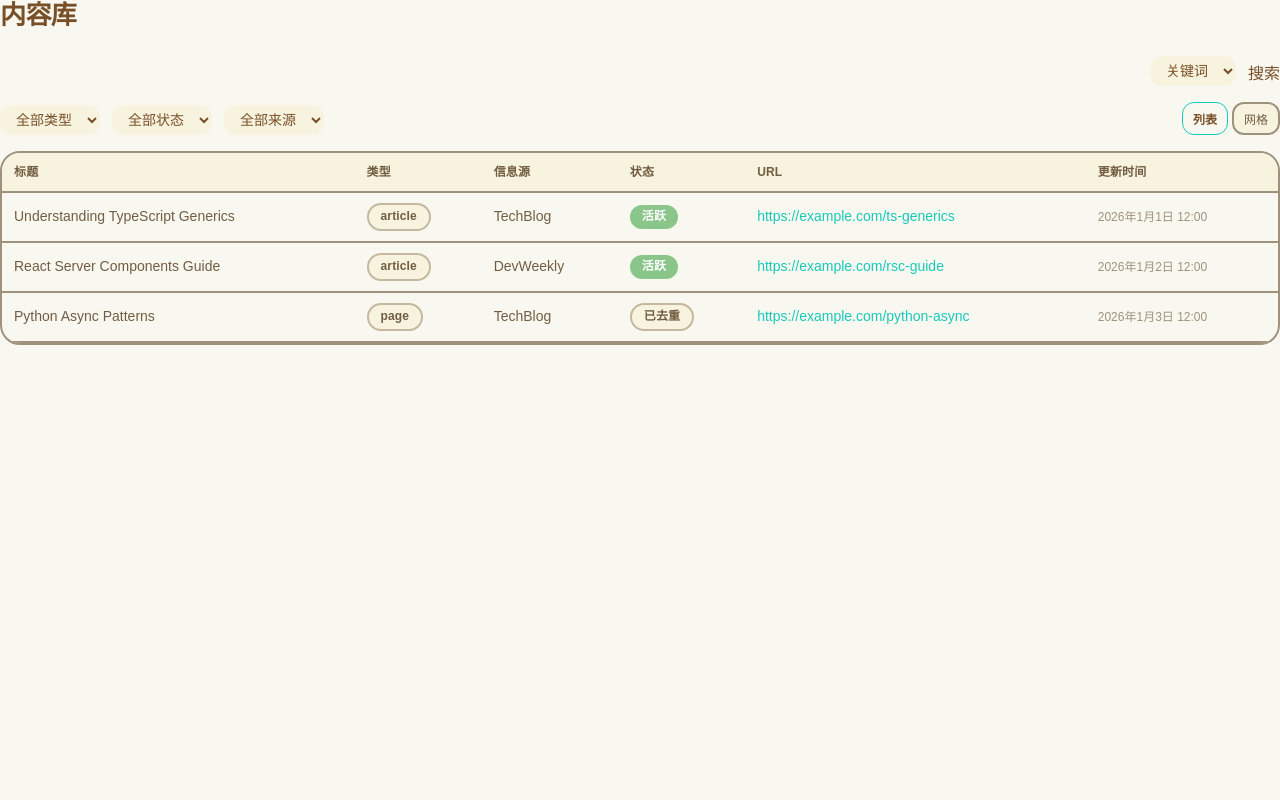
Scenario: ContentLibraryPage - content detail modal › displays full article text in modal
The image size is (1280, 800).
Check: the table with test id "content-table" is shown, box [2,153,1278,343]
Click the text "Understanding TypeScript Generics" at (124, 216), box [14,208,235,224]
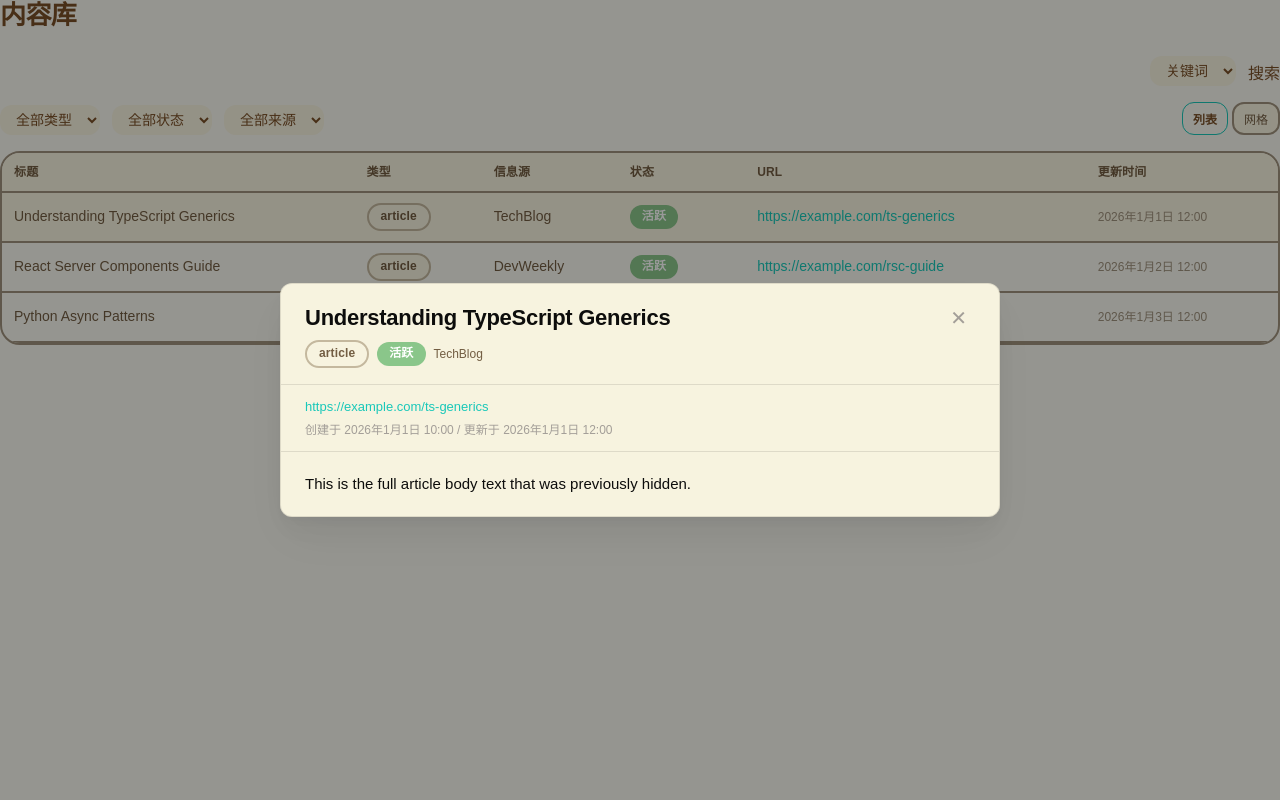
Check: the element with test id "content-detail-body" reads "This is the full article body text that was previously hidden.", box [305,475,691,492]
